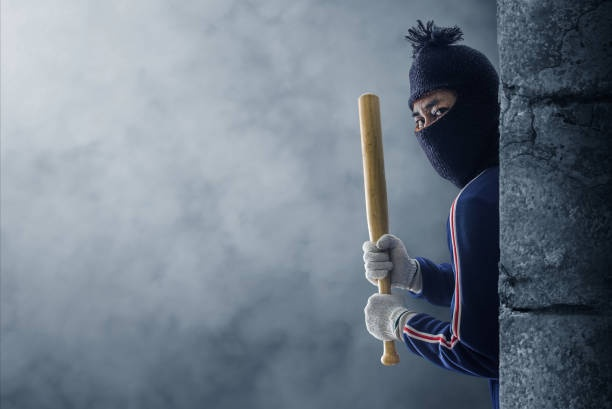bita: (358, 92, 402, 364)
